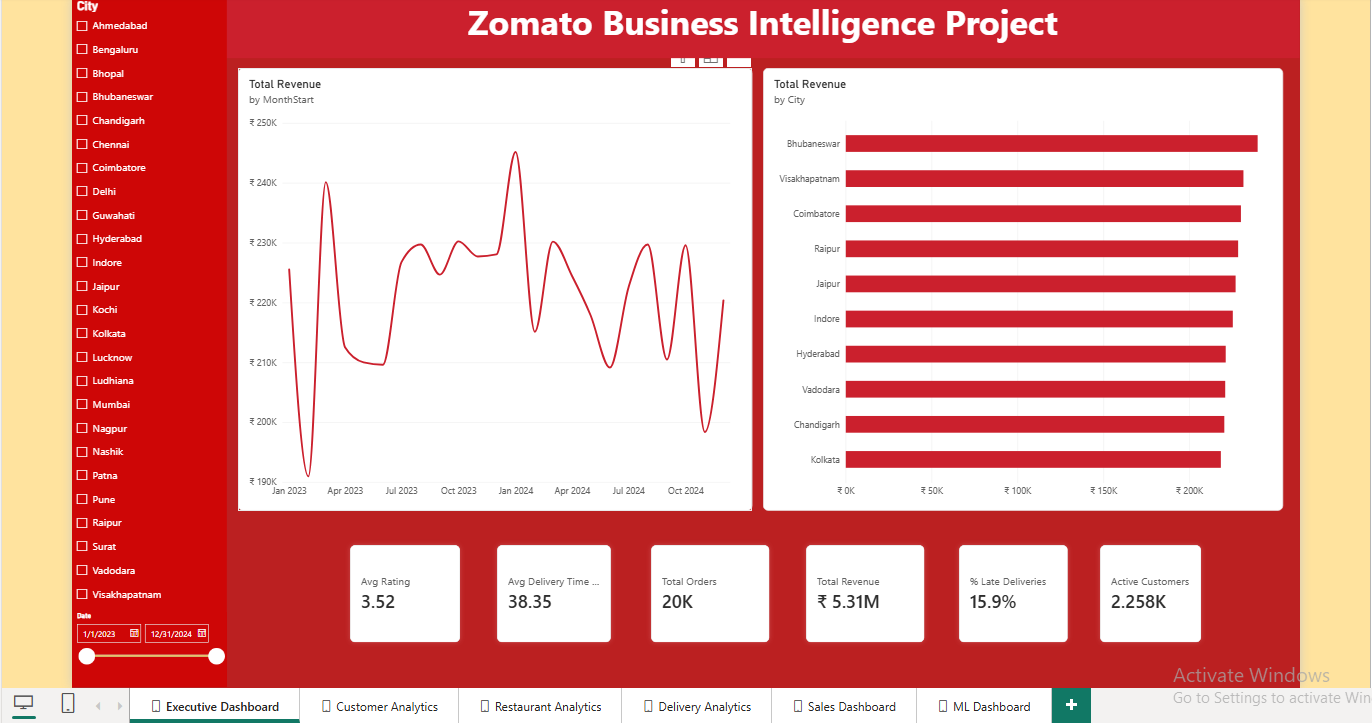

What the dashboard file says about the page in this screenshot:
{"tool":"powerbi","page":{"name":"Executive Dashboard","canvas":[1920,1080],"ordinal":0},"visuals":[{"type":"lineChart","fields":{"Category":["Date.MonthStart"],"Y":["_Measures.Total Revenue"]},"box":[259,111.6,803.7,692.1],"z":0},{"type":"cardVisual","fields":{"Data":["_Measures.Total Revenue"]},"box":[1136.4,846.1,207.6,174.1],"z":0,"group":"g1"},{"type":"clusteredBarChart","fields":{"Category":["Cities.City"],"Y":["_Measures.Total Revenue"]},"box":[1080.6,111.6,812.7,692.1],"z":1000},{"type":"cardVisual","fields":{"Data":["_Measures.Total Orders"]},"box":[895.3,846.1,207.6,174.1],"z":1000,"group":"g1"},{"type":"textbox","box":[240.5,1.9,1677.6,93.5],"z":2000},{"type":"cardVisual","fields":{"Data":["_Measures.Avg Delivery Time (min)"]},"box":[654.2,846.1,200.9,174.1],"z":2000,"group":"g1"},{"type":"slicer","fields":{"Values":["Cities.City"]},"box":[0,2.2,242.4,961.9],"z":3000},{"type":"cardVisual","fields":{"Data":["_Measures.Avg Rating"]},"box":[424.2,846.1,194.2,174.1],"z":3000,"group":"g1"},{"type":"cardVisual","fields":{"Data":["_Measures.Active Customers"]},"box":[1596.3,846.1,180.8,174.1],"z":4000,"group":"g1"},{"type":"slicer","fields":{"Values":["Date.Date"]},"box":[0,961.9,242.4,116.4],"z":4000},{"type":"group","id":"g1","title":"Group 1","box":[424.2,846.1,1352.9,174.1],"z":5000},{"type":"cardVisual","fields":{"Data":["_Measures.% Late Deliveries"]},"box":[1375.3,846.1,192,174.1],"z":5000,"group":"g1"}]}

Visuals, with their boxes on the page's 1920x1080 design canvas (x1, y1, x2, y2). These are canvas units, not pixel positions in the 1372x723 screenshot, which may show the page scaled, cropped or inside an application window:
lineChart - Date.MonthStart x _Measures.Total Revenue: (259,112,1063,804)
cardVisual - _Measures.Total Revenue: (1136,846,1344,1020)
clusteredBarChart - Cities.City x _Measures.Total Revenue: (1081,112,1893,804)
cardVisual - _Measures.Total Orders: (895,846,1103,1020)
textbox: (240,2,1918,95)
cardVisual - _Measures.Avg Delivery Time (min): (654,846,855,1020)
slicer - Cities.City: (0,2,242,964)
cardVisual - _Measures.Avg Rating: (424,846,618,1020)
cardVisual - _Measures.Active Customers: (1596,846,1777,1020)
slicer - Date.Date: (0,962,242,1078)
"Group 1" group: (424,846,1777,1020)
cardVisual - _Measures.% Late Deliveries: (1375,846,1567,1020)
